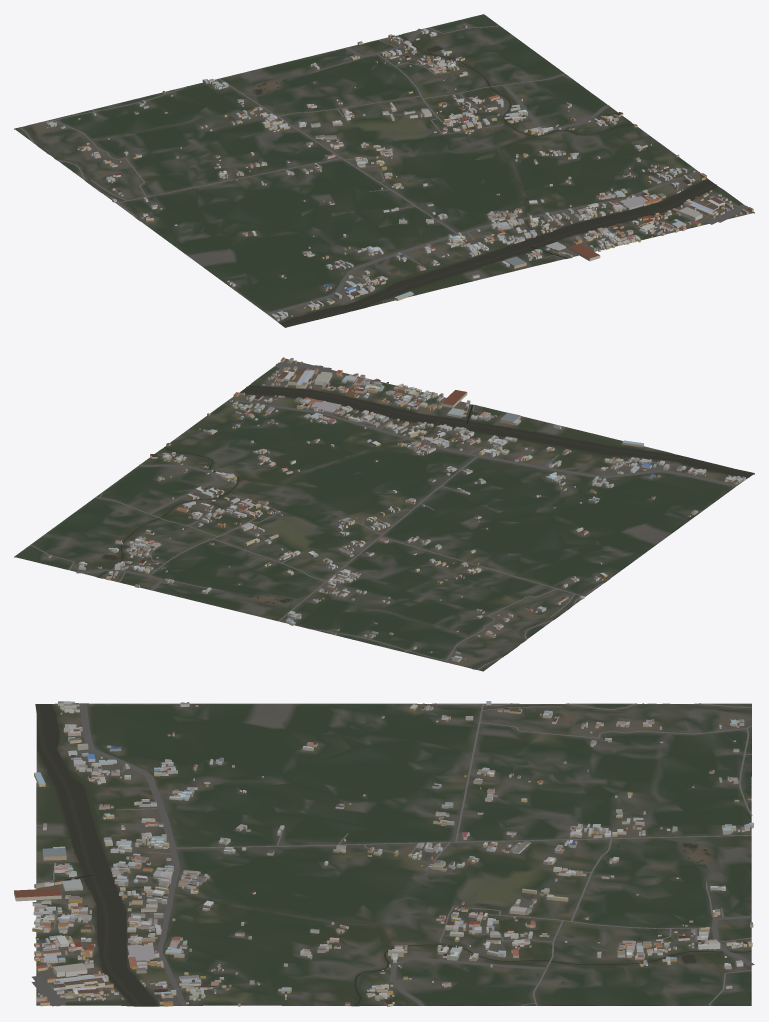
3 views of the same model, one above another, from view 1: azimuth 30°, elevation 25°; view 2: azimuth 150°, elevation 25°; view 3: azimuth 270°, elevation 25° (orthographic). The views are drawn at different scales.
Visible parts, largest first — view 1: ground, buildings, water, roads; view 2: ground, buildings, water, roads; view 3: ground, buildings, water, roads.
Boxes of the visible parts, x1,y1,x2,y2 form: ground: (14,14,754,327); buildings: (45,24,753,321); water: (24,34,717,327); roads: (19,25,750,314); ground: (14,358,754,671); buildings: (48,357,745,662); water: (98,385,754,669); roads: (30,360,737,669); ground: (36,703,751,1006); buildings: (14,701,753,1006); water: (35,703,751,1006); roads: (31,703,754,1006).
Bounding box in the file's own units: 1407 × 17.89 × 1451.
